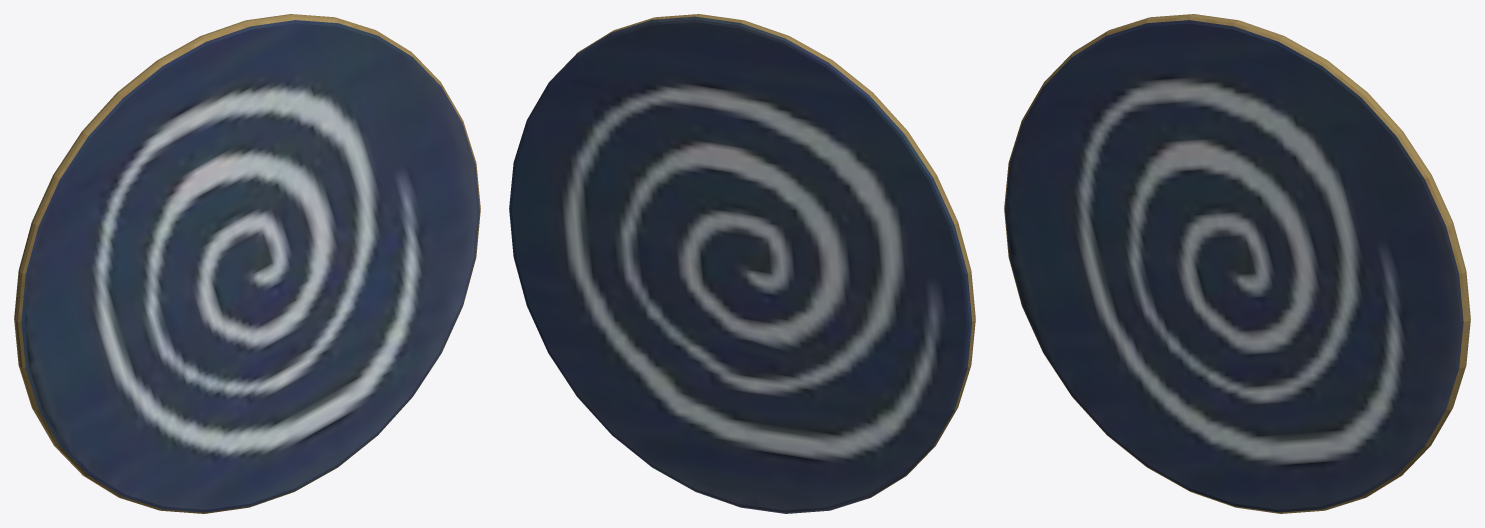
File: Stun Coin.001.fbx
The picture shows the model from 3 angles, left to right: view 1: azimuth 30°, elevation 25°; view 2: azimuth 150°, elevation 25°; view 3: azimuth 330°, elevation 25°; orthographic projection.
Parts seen in each view (by area): view 1: Circle.021; view 2: Circle.021; view 3: Circle.021.
Part boxes in pixels (box(x1,y1,x2,y2)): Circle.021: box(14, 14, 480, 513); Circle.021: box(509, 14, 975, 513); Circle.021: box(1004, 14, 1470, 513).
Bounding box in the file's own units: 112 × 112 × 2.87.
Materials: 2 (2 with a texture image).
